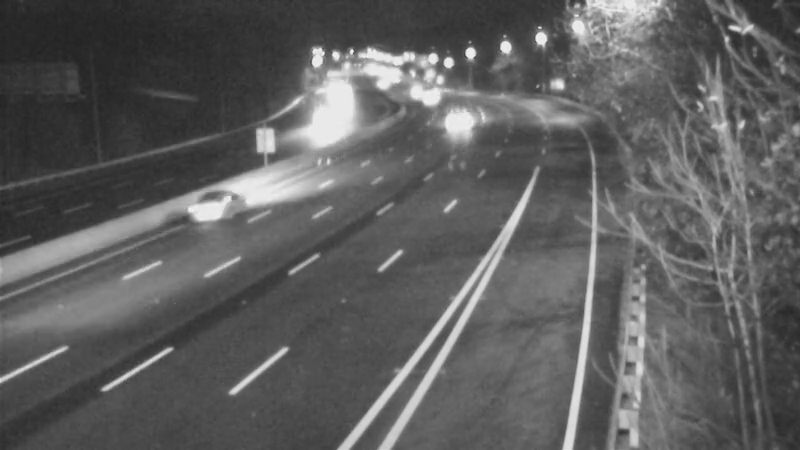vehicle: (169, 164, 249, 244), (360, 53, 410, 103), (389, 65, 439, 115), (403, 67, 453, 117), (430, 94, 480, 144), (293, 107, 343, 157)
